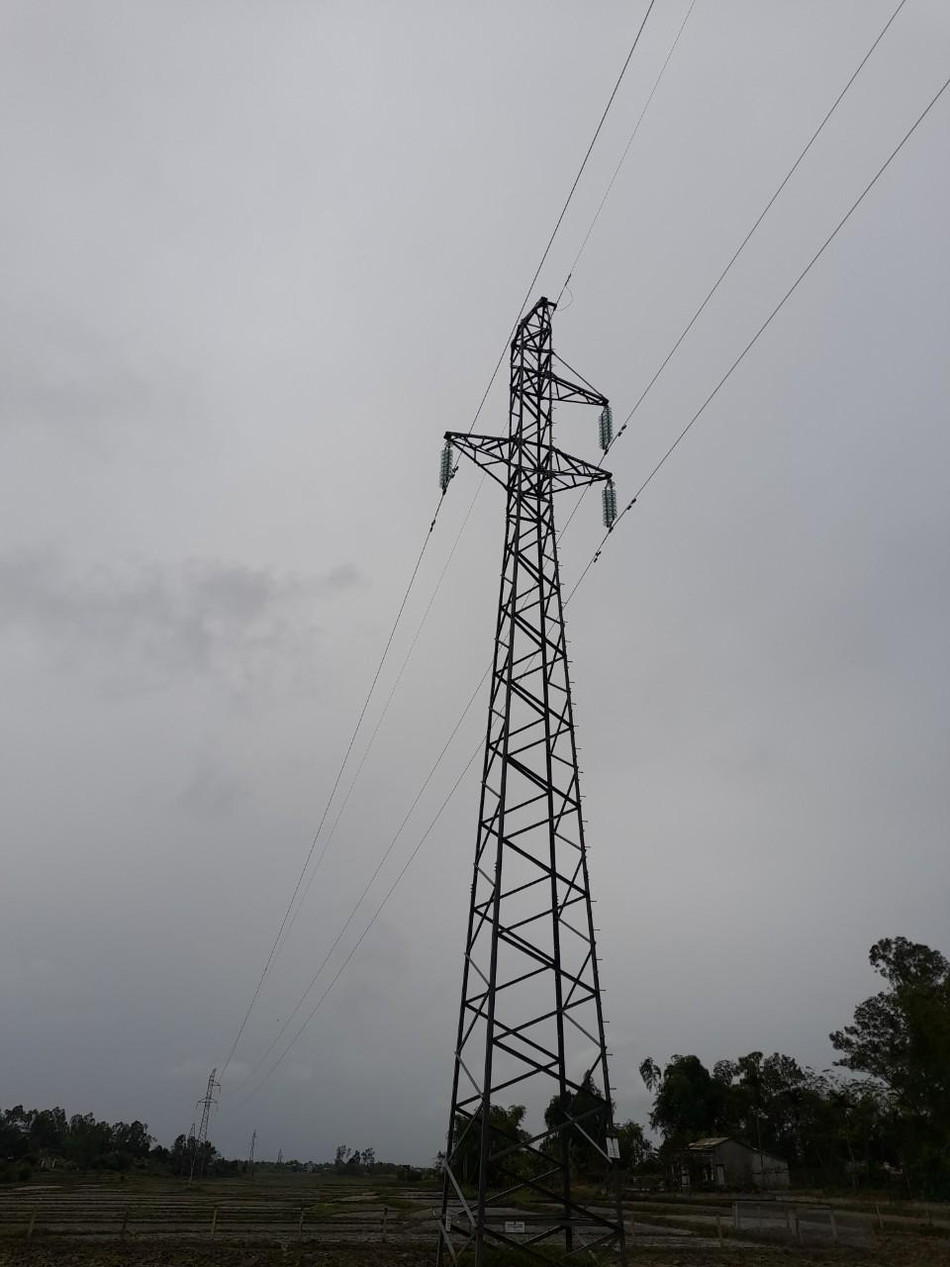power_tower: (445, 289, 633, 1247)
